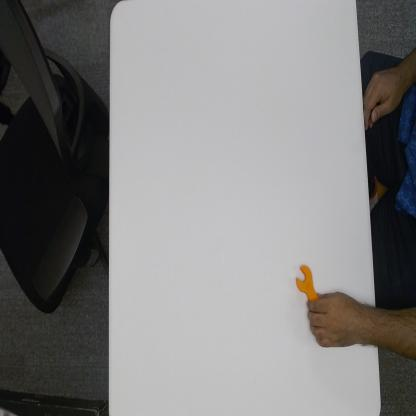Hand: (306, 286, 364, 349)
Screwdriver: (294, 257, 318, 300)
